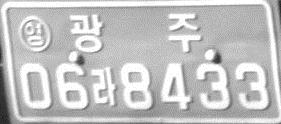0: (19, 62, 52, 111)
3: (195, 61, 230, 110), (234, 61, 269, 110)
4: (160, 63, 192, 110)
6: (55, 61, 89, 111)
8: (120, 62, 153, 110)
광주_D: (67, 13, 201, 54)
라: (91, 65, 117, 106)
영: (18, 14, 52, 53)
